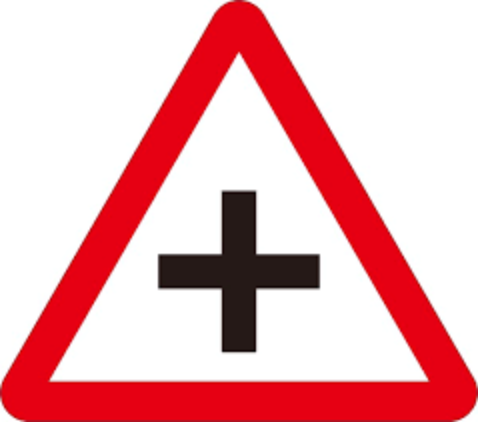Fork_road: (3, 1, 477, 422)
